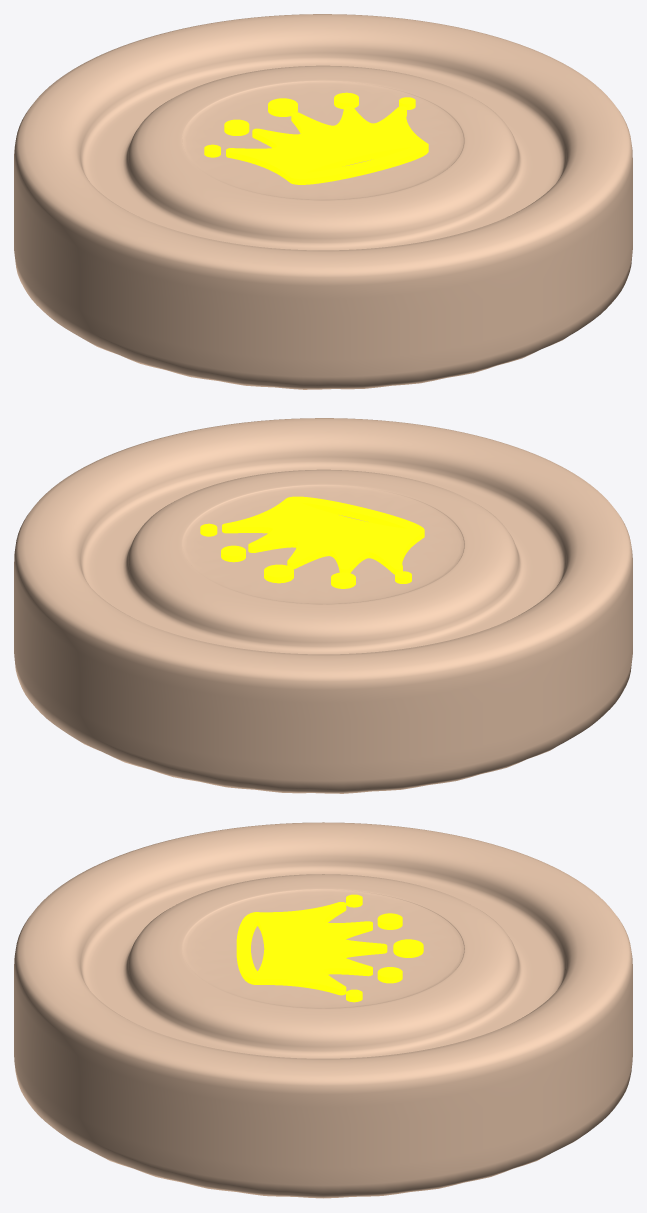
Rendered from Checkers.fbx_white_king.fbx.
The picture shows the model from 3 angles, top to bottom: view 1: azimuth 30°, elevation 25°; view 2: azimuth 150°, elevation 25°; view 3: azimuth 270°, elevation 25°; orthographic projection.
Parts seen in each view (by area): view 1: white_king; view 2: white_king; view 3: white_king.
Boxes of the visible parts, x1=… form: white_king: x1=14, y1=14, x2=632, y2=389; white_king: x1=14, y1=418, x2=632, y2=793; white_king: x1=14, y1=822, x2=632, y2=1198.
Bounding box in the file's own units: 199 × 45.64 × 199.
